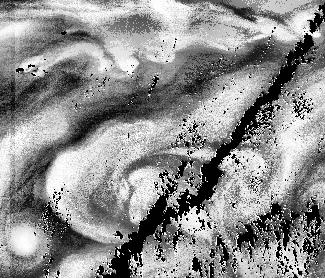CE: (1, 205, 56, 274)
